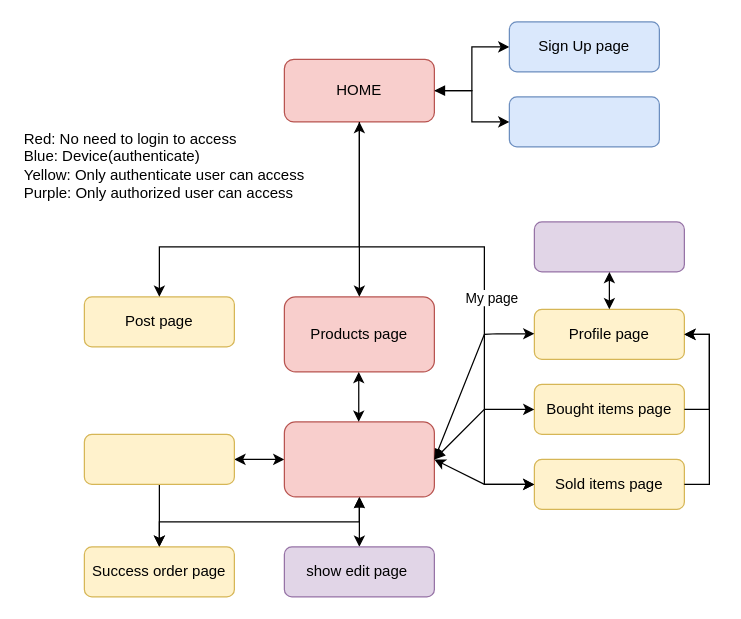
The diagram is 741 pixels wide and 619 high, and some of its shapes have lost their labels. Here are the shapes that lost their labels. From the top down, the centre of each, then its label:
At [583,121]: "Log In page".
At [608,246]: "profile edit page".
At [158,458]: "Order Comfirm page".
At [358,459]: "Show page (item)".
